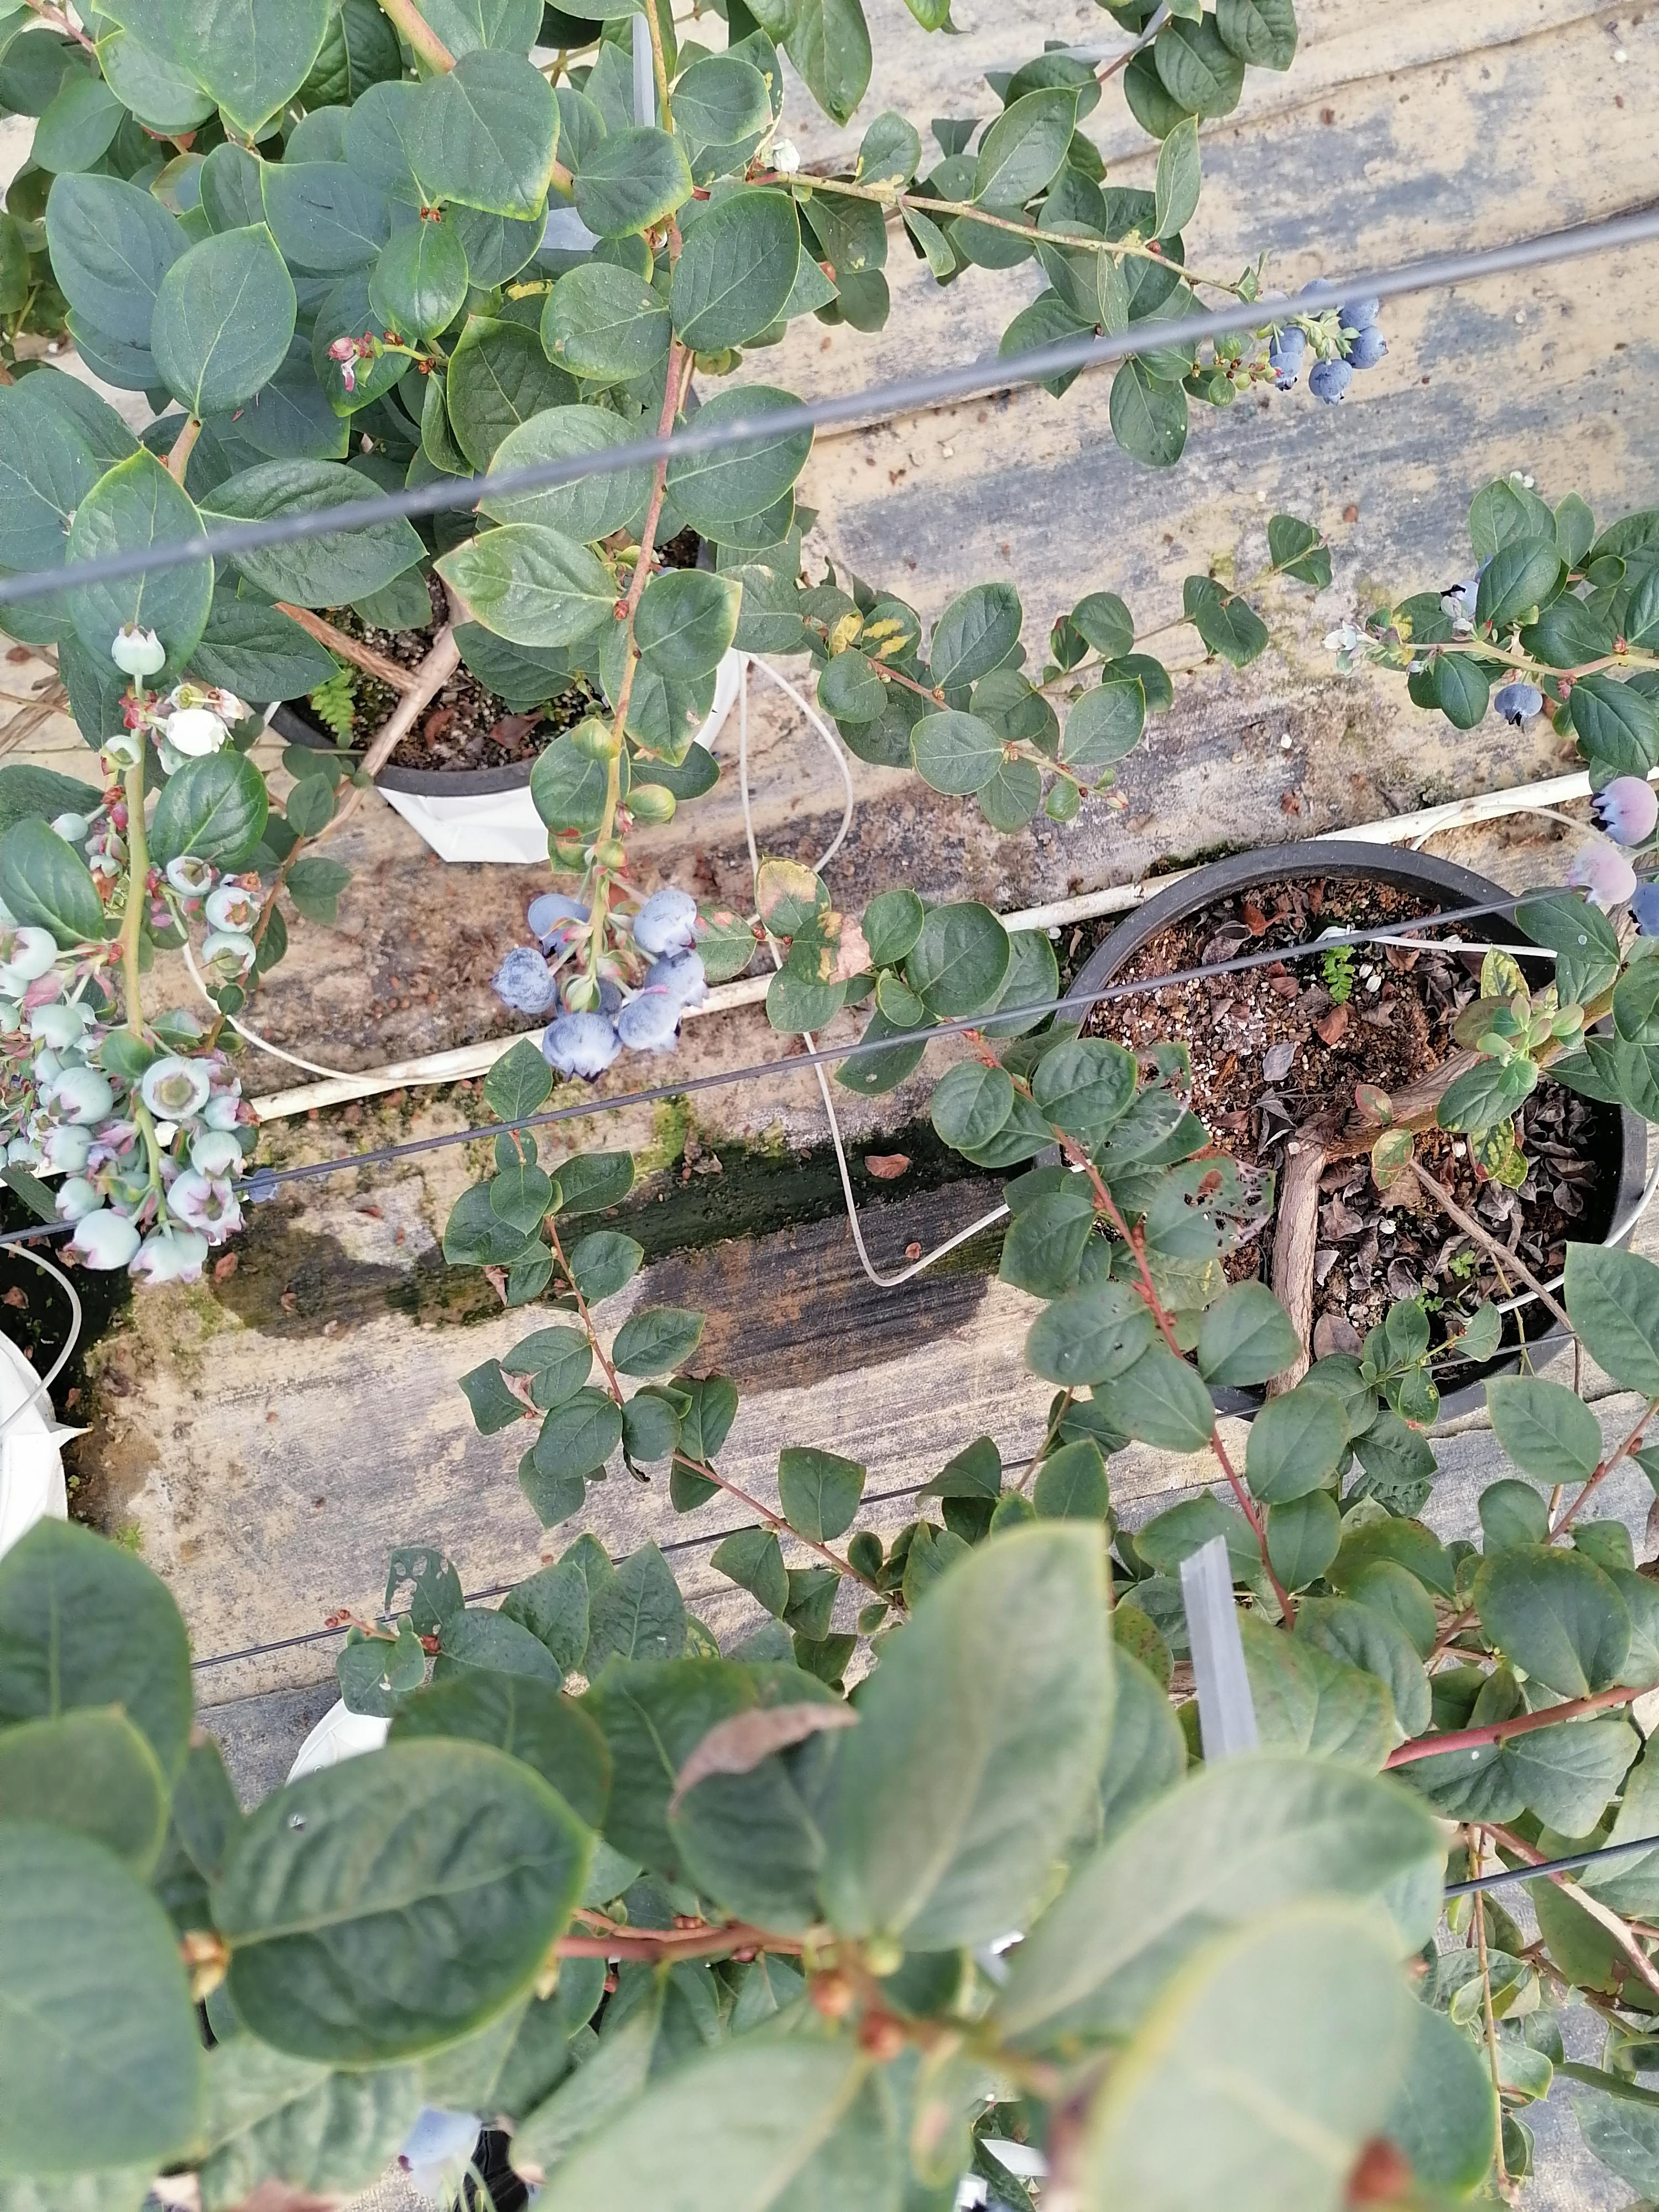ripe-blueberries: (542, 1014, 620, 1078), (528, 894, 596, 965), (493, 948, 556, 1015), (633, 890, 695, 956), (645, 948, 709, 1010), (619, 993, 681, 1052), (556, 977, 622, 1033), (1342, 327, 1389, 371), (1309, 359, 1352, 404), (1493, 683, 1542, 723), (1338, 294, 1380, 333), (1629, 883, 1659, 937), (1265, 352, 1303, 390), (1270, 326, 1307, 357)
